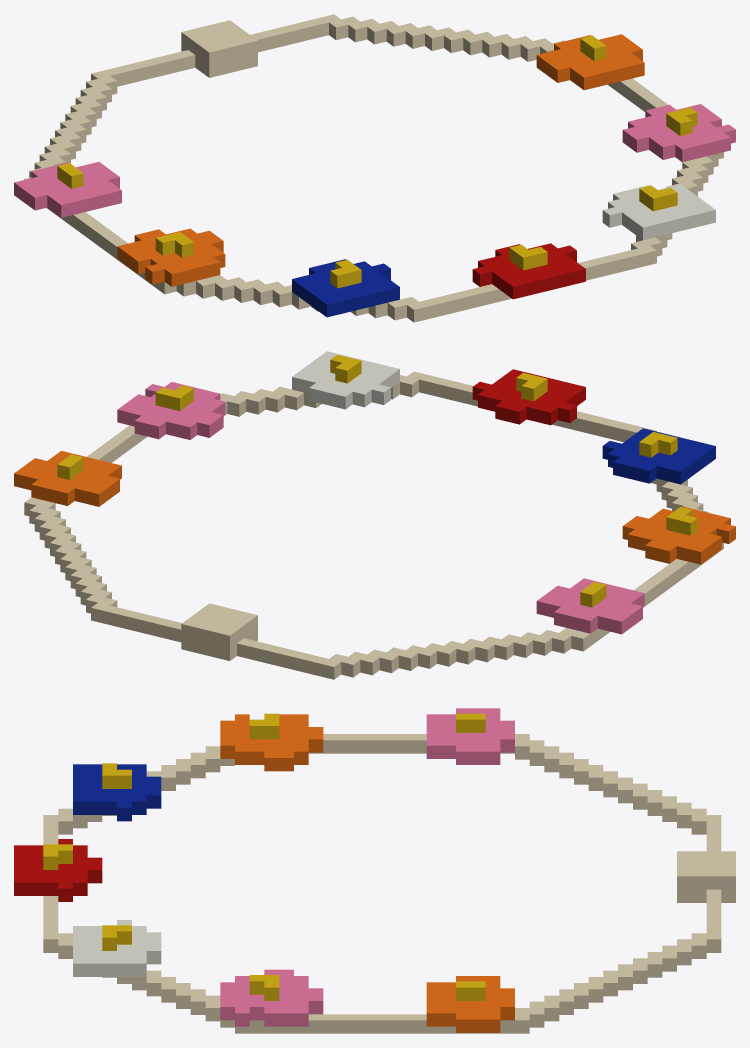
Rendered from flower_anklet.glb.
3 renders of one model, top to bottom at view 1: azimuth 30°, elevation 25°; view 2: azimuth 150°, elevation 25°; view 3: azimuth 270°, elevation 25°, orthographic. The views are drawn at different scales.
Parts seen in each view (by area): view 1: flower_anklet:compound; view 2: flower_anklet:compound; view 3: flower_anklet:compound.
Part boxes in pixels (left/top/right/bottom): flower_anklet:compound: left=14, top=14, right=735, bottom=322; flower_anklet:compound: left=14, top=351, right=735, bottom=679; flower_anklet:compound: left=14, top=708, right=735, bottom=1033.
Bounding box in the file's own units: 0.1 × 0.006 × 0.098.
